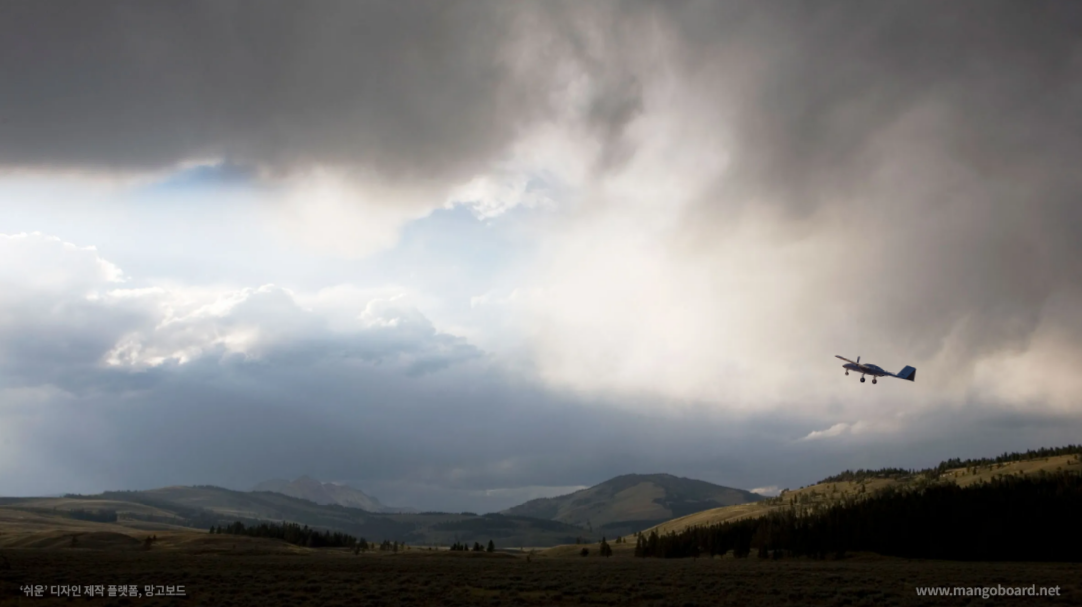military drone: (834, 354, 916, 384)
